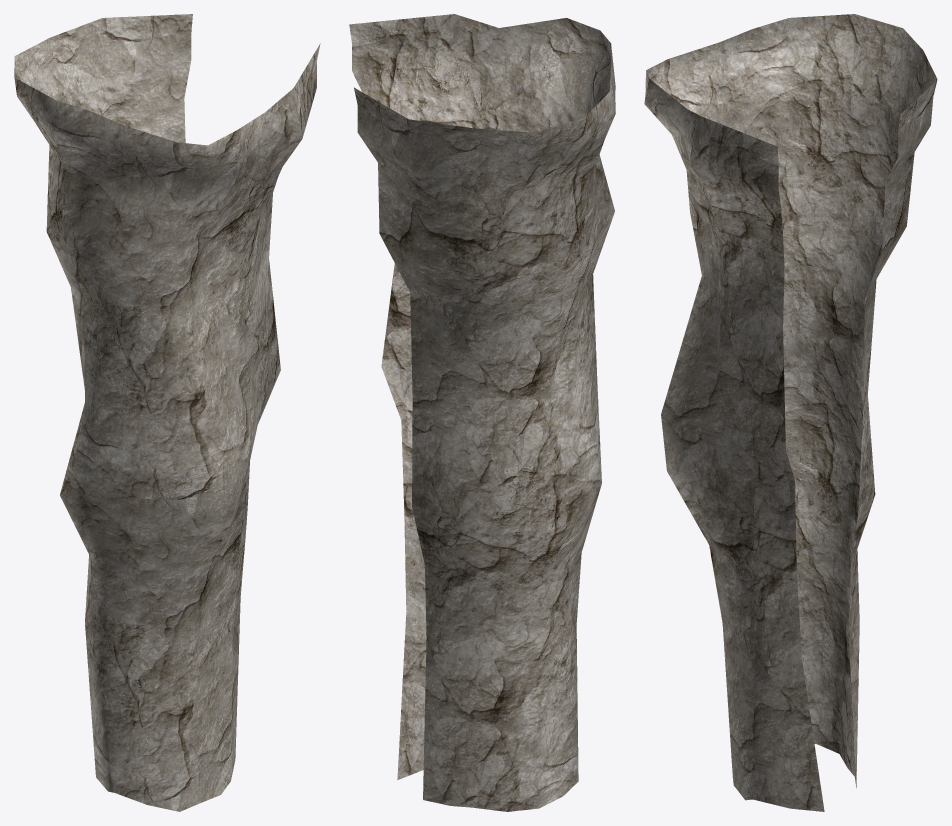
Rendered from Cliff_02.007.fbx.
3 renders of one model, left to right at view 1: azimuth 30°, elevation 25°; view 2: azimuth 150°, elevation 25°; view 3: azimuth 270°, elevation 25°, orthographic. The views are drawn at different scales.
Parts seen in each view (by area): view 1: Cliff_02.007; view 2: Cliff_02.007; view 3: Cliff_02.007.
Boxes of the visible parts, <box> form: Cliff_02.007: <box>14,14,320,811</box>; Cliff_02.007: <box>349,14,615,811</box>; Cliff_02.007: <box>644,14,937,811</box>.
Bounding box in the file's own units: 1474 × 3766 × 1403.
